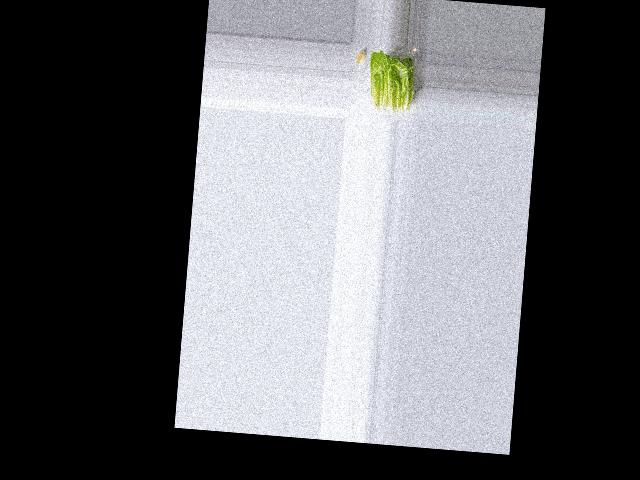lettuce: (364, 48, 418, 114)
